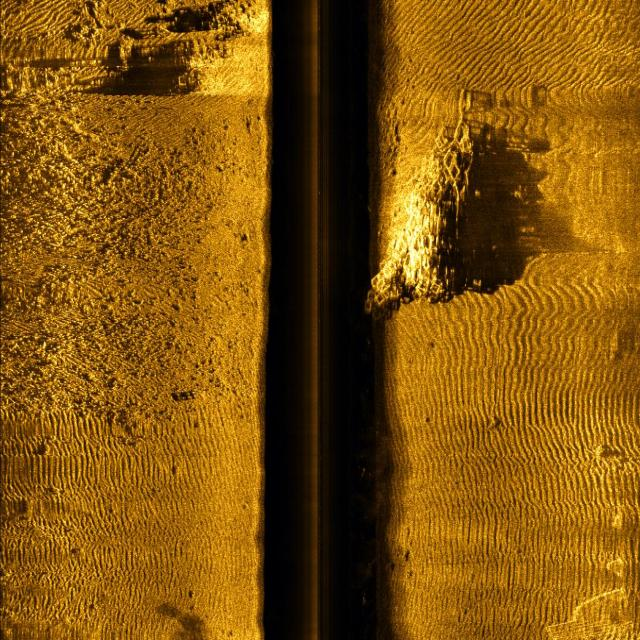artificial reef: (344, 66, 497, 347)
